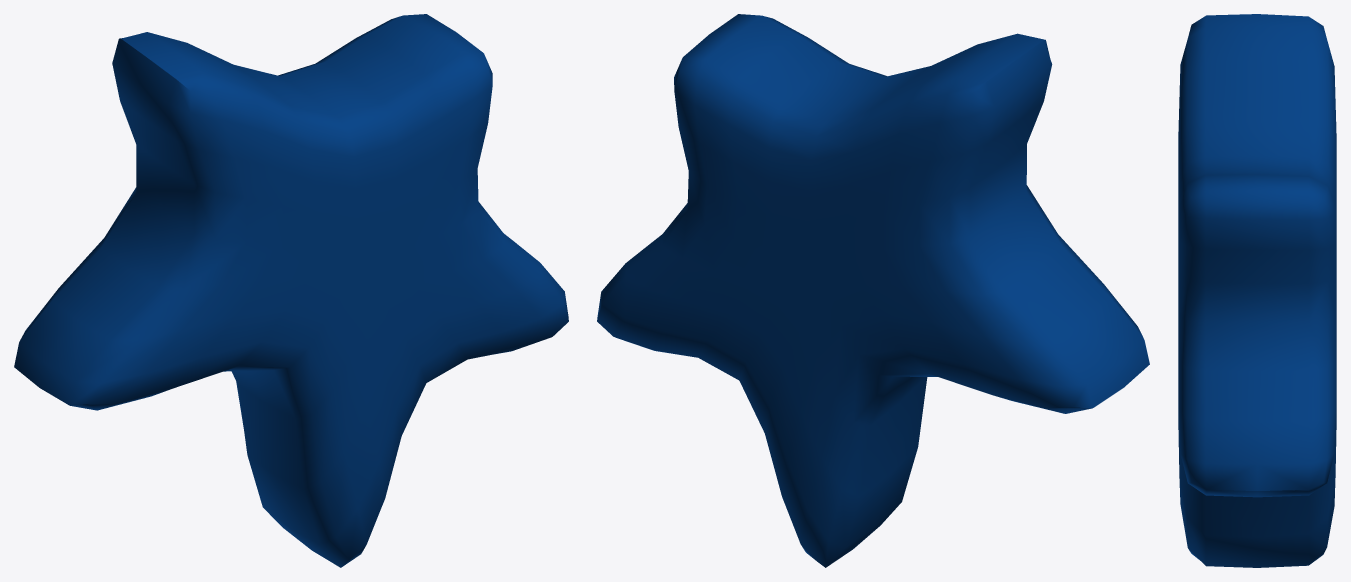
Rendered from talan star.fbx.
3 renders of one model, left to right at view 1: azimuth 30°, elevation 25°; view 2: azimuth 150°, elevation 25°; view 3: azimuth 270°, elevation 25°, orthographic. The views are drawn at different scales.
Visible parts, largest first — view 1: Curve; view 2: Curve; view 3: Curve.
Boxes of the visible parts, left/top/right/bottom form: Curve: left=14, top=14, right=568, bottom=567; Curve: left=597, top=14, right=1149, bottom=567; Curve: left=1178, top=14, right=1336, bottom=567.
Bounding box in the file's own units: 25.46 × 25.79 × 7.69.
